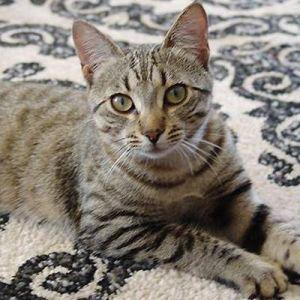bengal: (54, 1, 226, 165)
